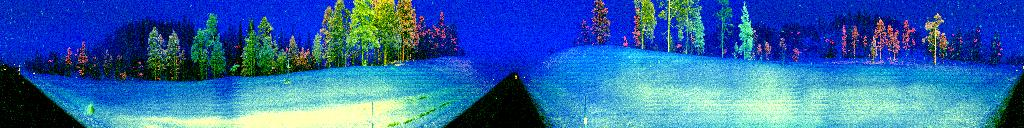pole: (582, 92, 588, 128), (370, 96, 375, 128)
